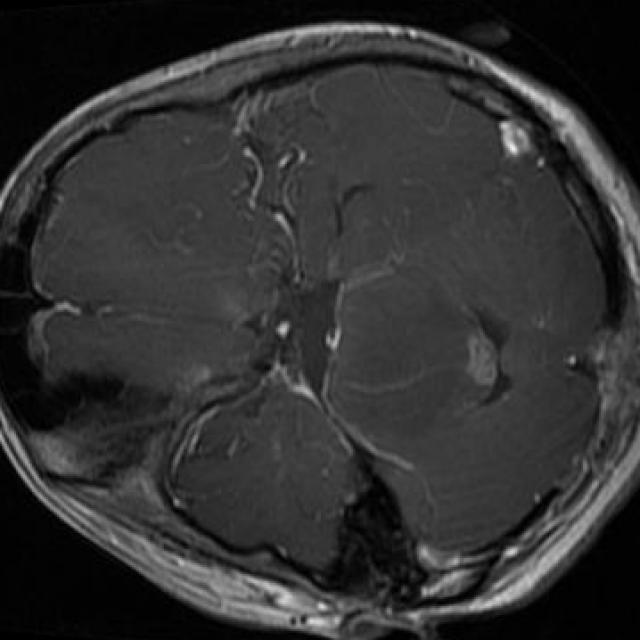glioma: (169, 373, 351, 569)
